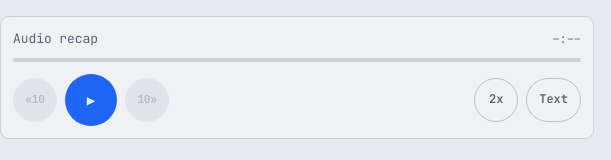
Scenario: AudioBite › surfaces a failed play as a retryable error
Click the button named "audio" at (91, 100), box [65,74,117,126]
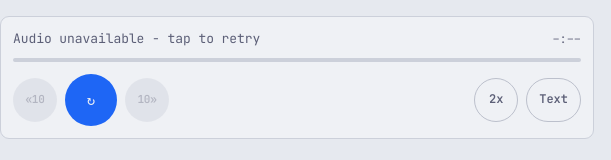
Expected: the text "Audio unavailable - tap to retry" is shown, [13,29,260,50]
